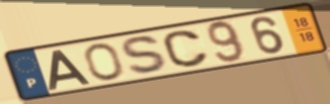6: (249, 15, 287, 56)
9: (207, 19, 248, 66)
A: (47, 48, 94, 92)
C: (161, 29, 211, 70)
O: (82, 41, 126, 81)
S: (119, 35, 173, 77)
